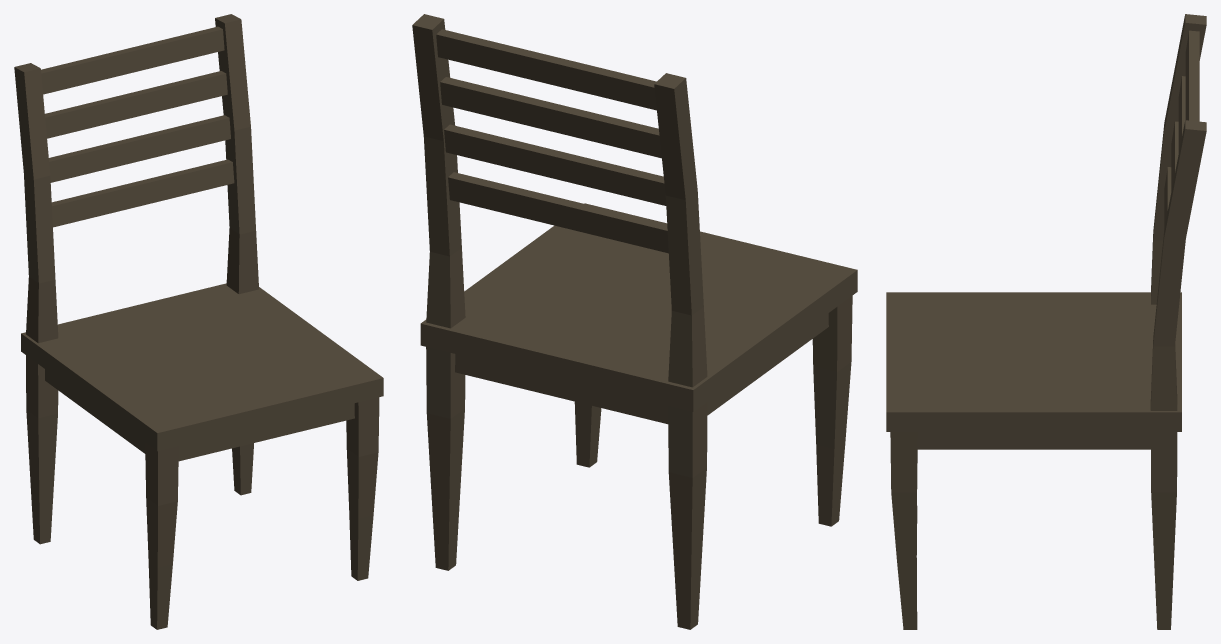
File: furn-dining-chair-wood-fabric.glb
3 renders of one model, left to right at view 1: azimuth 30°, elevation 25°; view 2: azimuth 150°, elevation 25°; view 3: azimuth 270°, elevation 25°, orthographic. The views are drawn at different scales.
Visible parts, largest first — view 1: Chair_1; view 2: Chair_1; view 3: Chair_1.
Part boxes in pixels (left/top/right/bottom): Chair_1: left=14, top=14, right=383, bottom=629; Chair_1: left=412, top=14, right=857, bottom=629; Chair_1: left=886, top=14, right=1206, bottom=629.
Size of the model in its own units: 0.46 by 0.9 by 0.52.
